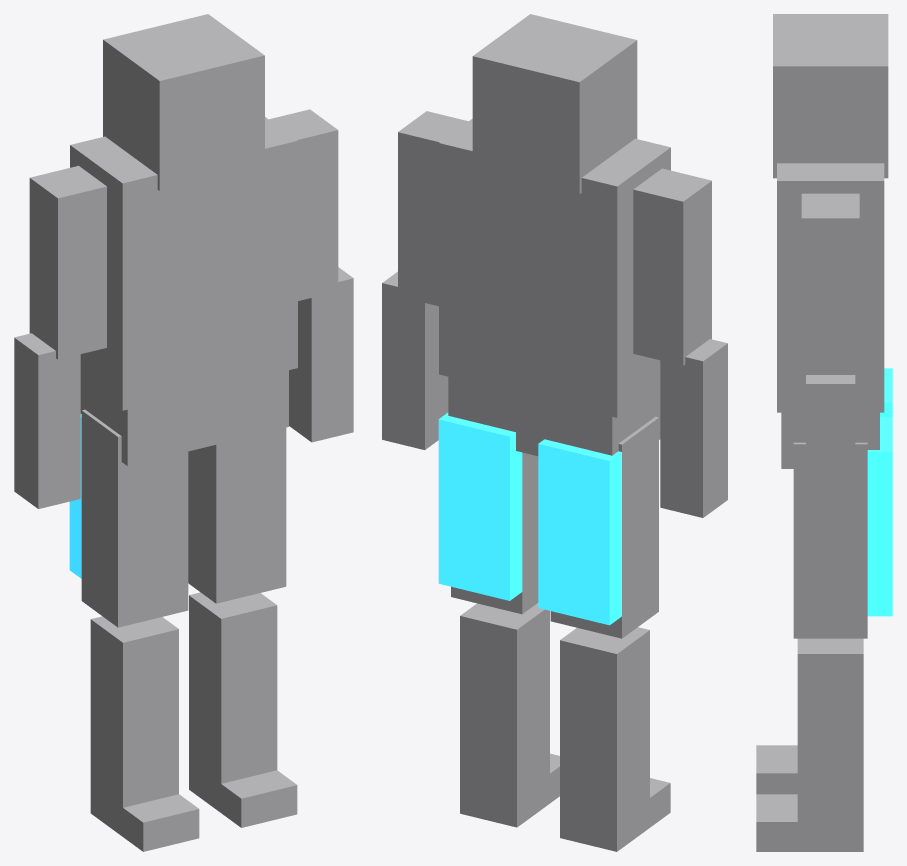
File: hamstrings.glb
3 views of the same model, side by side, from view 1: azimuth 30°, elevation 25°; view 2: azimuth 150°, elevation 25°; view 3: azimuth 270°, elevation 25° (orthographic).
Parts seen in each view (by area): view 1: Mannequin; view 2: Mannequin; view 3: Mannequin.
Boxes of the visible parts, left/top/right/bottom form: Mannequin: left=14, top=14, right=353, bottom=851; Mannequin: left=382, top=14, right=727, bottom=851; Mannequin: left=756, top=14, right=892, bottom=851.
Bounding box in the file's own units: 0.9 × 2.07 × 0.33.
